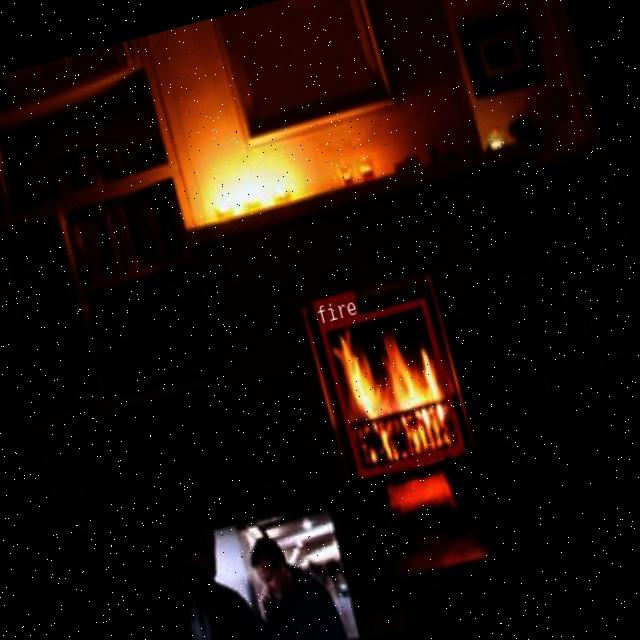fire: (318, 296, 464, 476)
